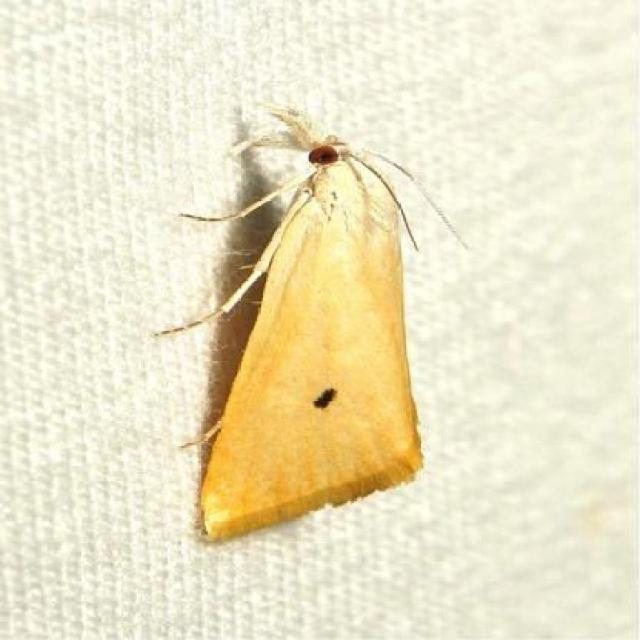stem-borer: (182, 105, 432, 546)
